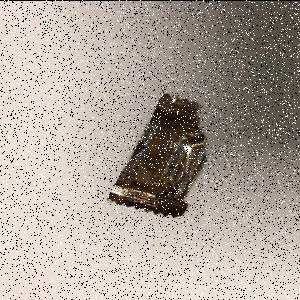Trash: (106, 93, 208, 219)
